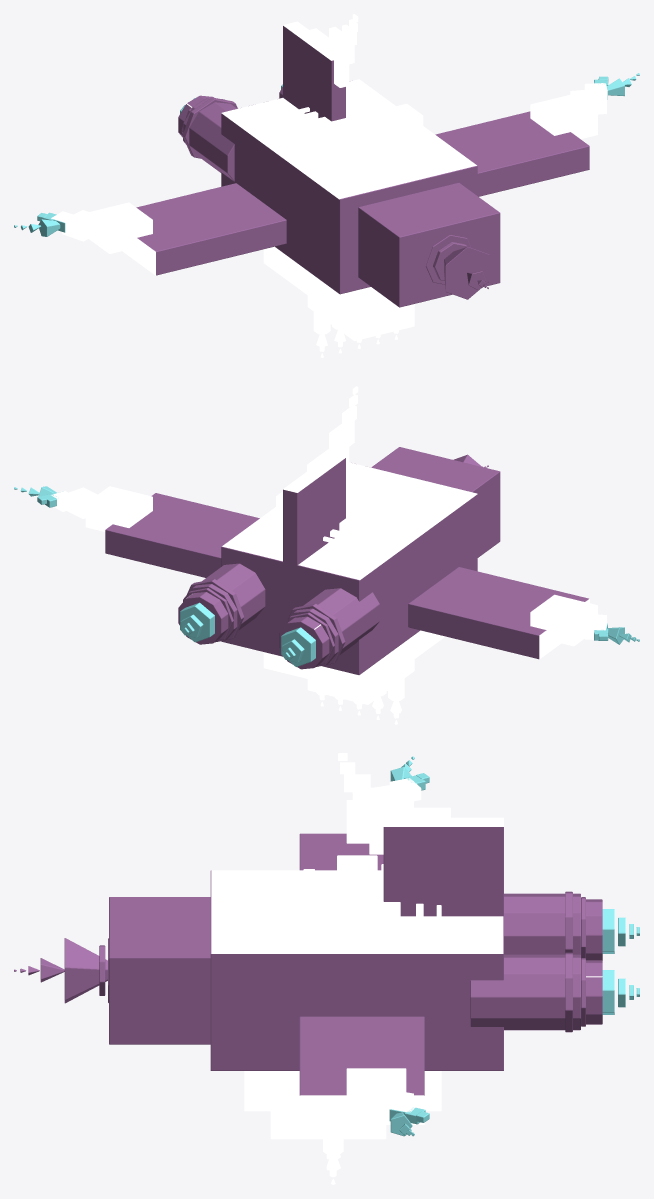
File: Enemy_Bomber.fbx
The picture shows the model from 3 angles, top to bottom: view 1: azimuth 30°, elevation 25°; view 2: azimuth 150°, elevation 25°; view 3: azimuth 270°, elevation 25°; orthographic projection. The views are drawn at different scales.
Visible parts, largest first — view 1: Enemy_Bomber_Buffer_v8; view 2: Enemy_Bomber_Buffer_v8; view 3: Enemy_Bomber_Buffer_v8.
Part boxes in pixels (x1,y1,x2,y2): Enemy_Bomber_Buffer_v8: [14, 14, 639, 357]; Enemy_Bomber_Buffer_v8: [14, 386, 639, 724]; Enemy_Bomber_Buffer_v8: [14, 753, 639, 1184].
Size of the model in its own units: 9.27 by 4.68 by 6.5.
